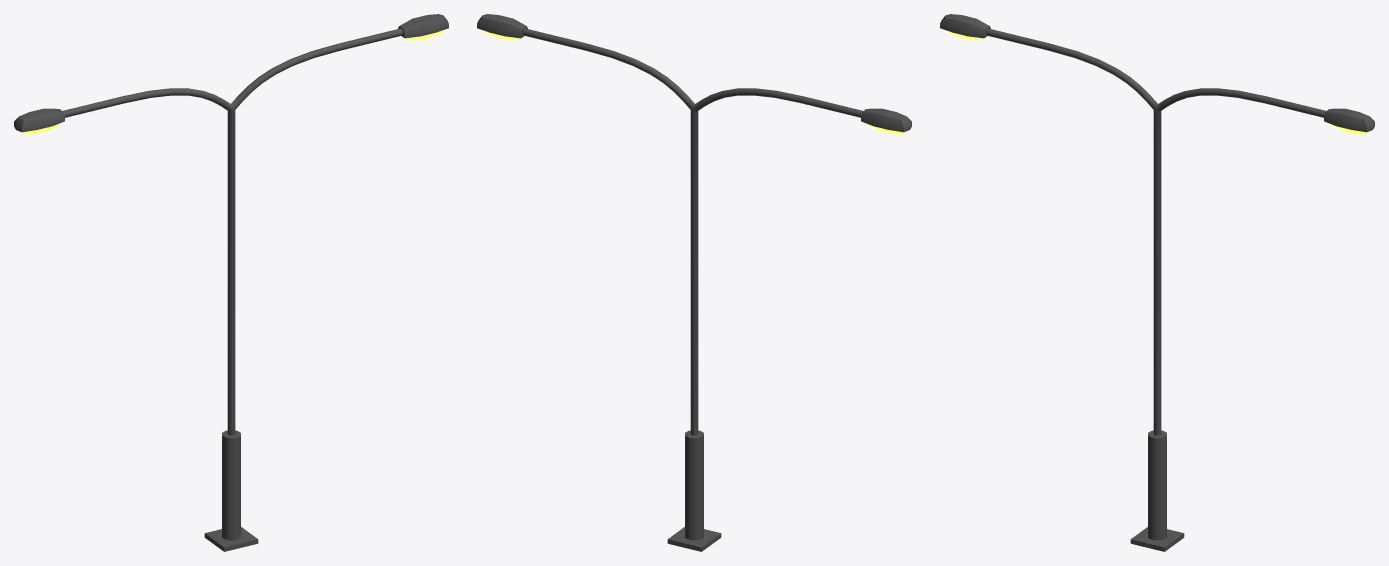
The model's file is Street_Modern_Y.fbx.
3 renders of one model, left to right at view 1: azimuth 30°, elevation 25°; view 2: azimuth 150°, elevation 25°; view 3: azimuth 330°, elevation 25°, orthographic.
Visible parts, largest first — view 1: Street_Modern_Y_LOD0; view 2: Street_Modern_Y_LOD0; view 3: Street_Modern_Y_LOD0.
Part boxes in pixels (box(x1,y1,x2,y2)): Street_Modern_Y_LOD0: box(14, 14, 448, 551); Street_Modern_Y_LOD0: box(477, 14, 911, 551); Street_Modern_Y_LOD0: box(940, 14, 1374, 551).
Size of what is drawn, in the model's own units: 508 by 535 by 40.
